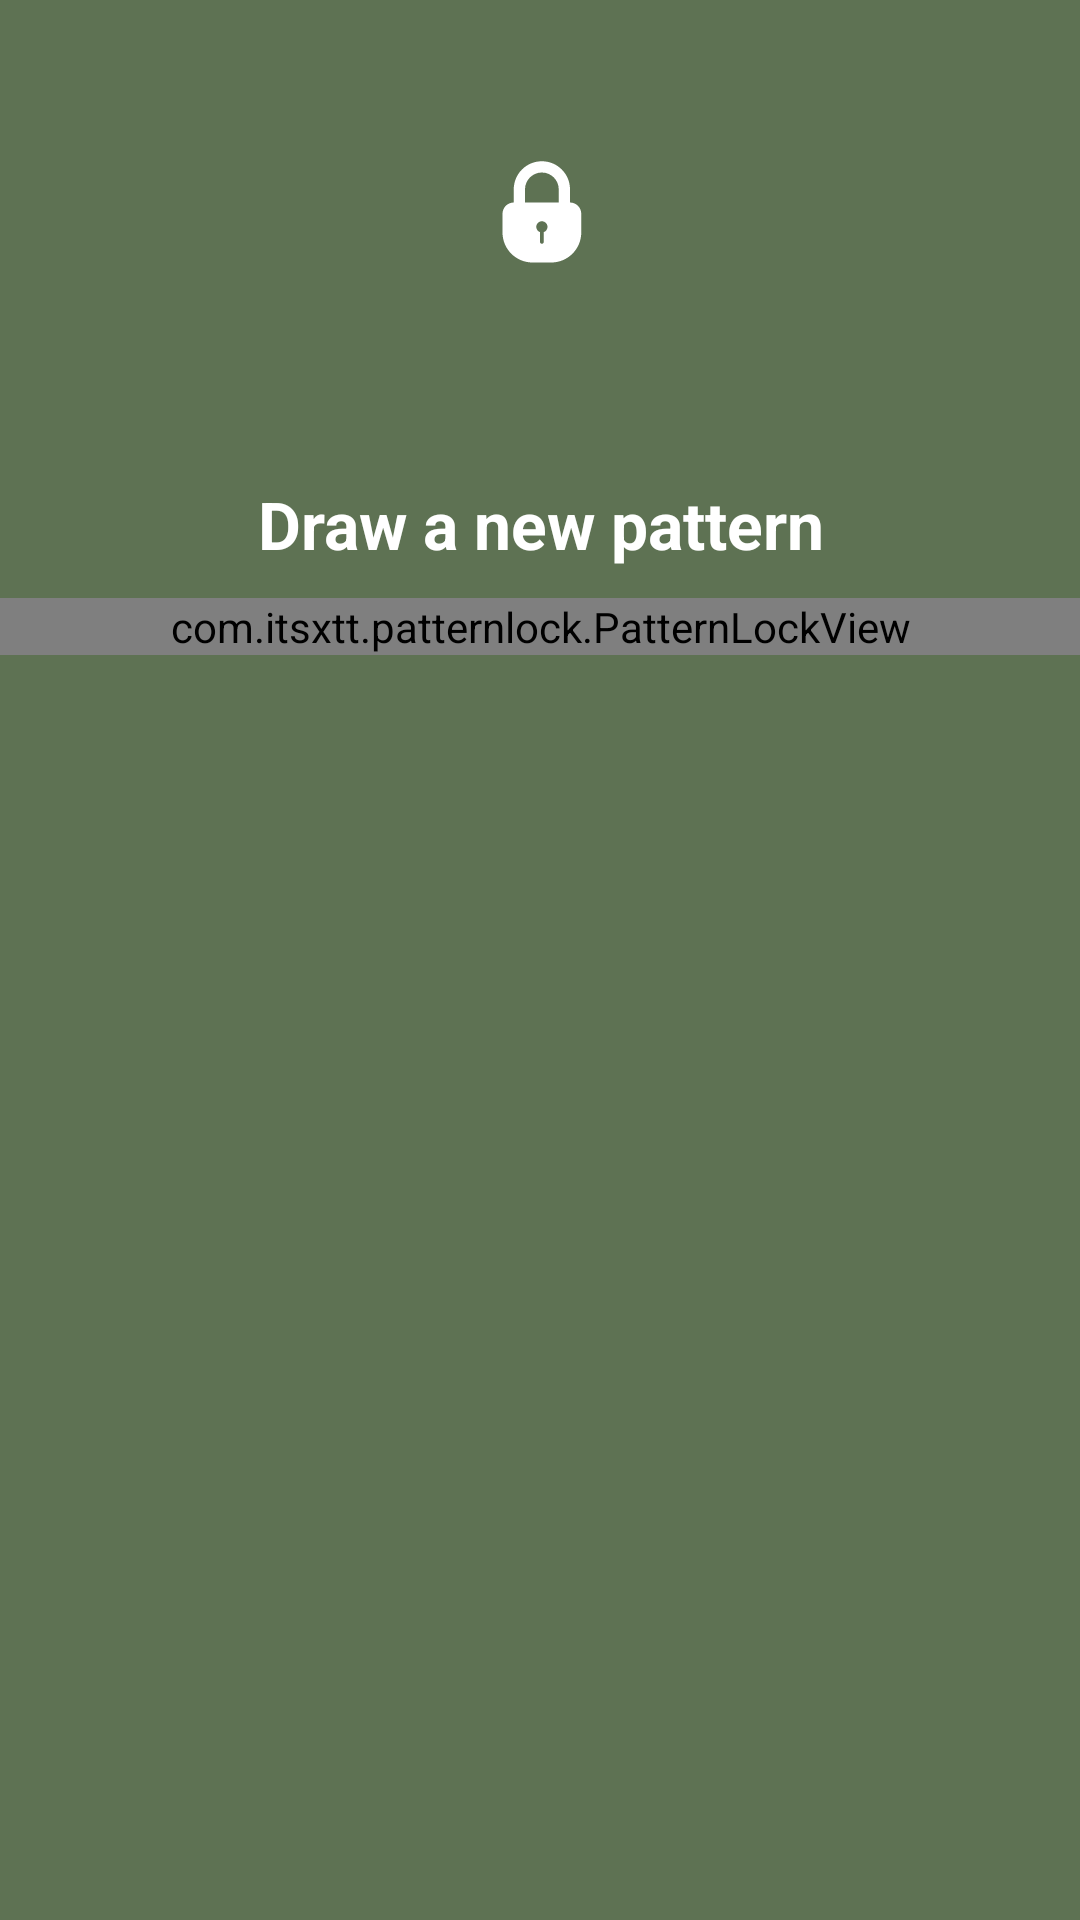

Icons on this 1080*1920 Android screen, each with the point to tap as (x,y):
lock: (542,212)
